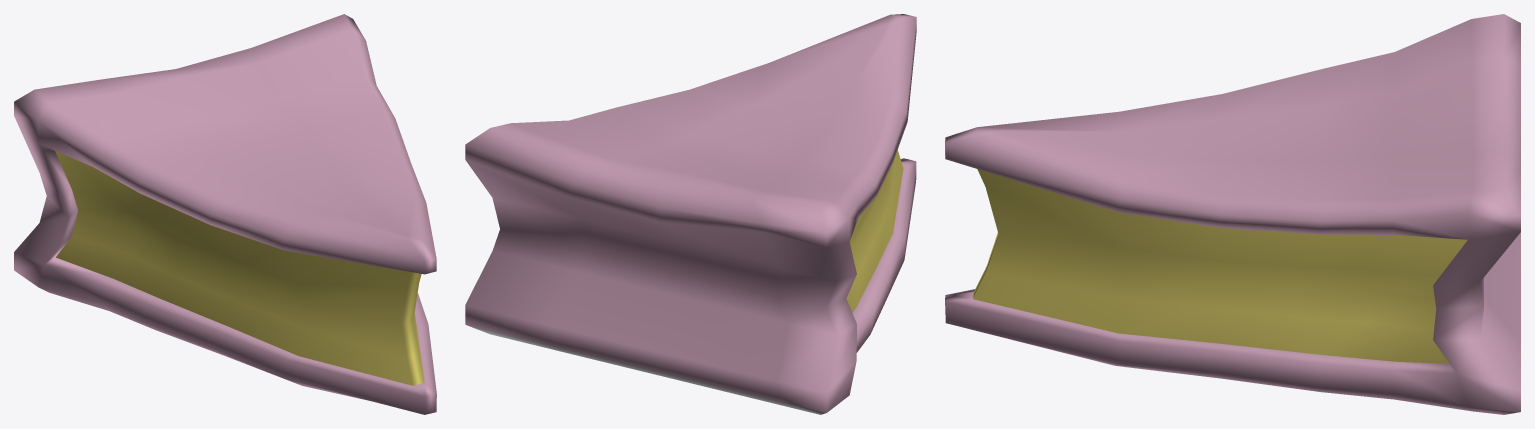
The model's file is cakePieceMaterialed.fbx.
The picture shows the model from 3 angles, left to right: view 1: azimuth 30°, elevation 25°; view 2: azimuth 150°, elevation 25°; view 3: azimuth 270°, elevation 25°; orthographic projection. The views are drawn at different scales.
Parts seen in each view (by area): view 1: cakePiece; view 2: cakePiece; view 3: cakePiece.
Boxes of the visible parts, box(x1,y1,x2,y2) form: cakePiece: box(14, 14, 436, 414); cakePiece: box(465, 14, 916, 414); cakePiece: box(945, 14, 1520, 414).
Size of the model in its own units: 234 by 131 by 296.
